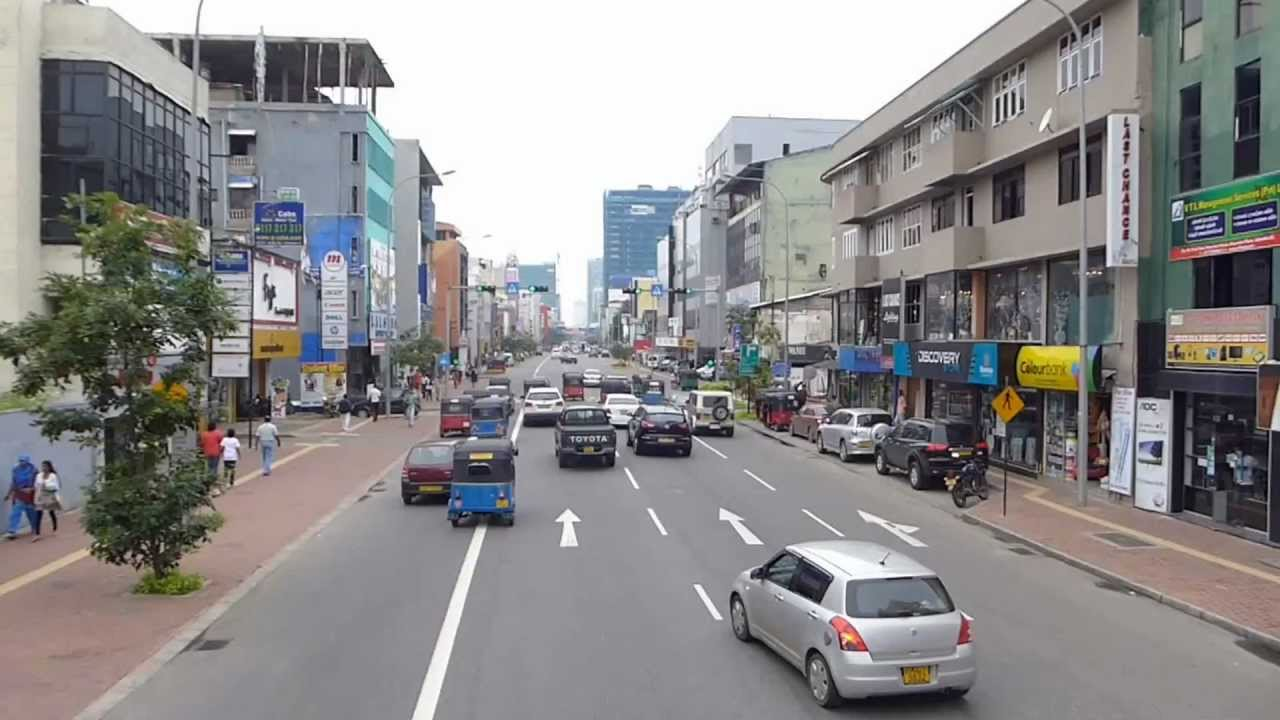tuk tuk: (444, 436, 523, 530), (474, 396, 511, 442), (757, 393, 796, 430), (439, 393, 470, 438), (560, 369, 586, 404)
